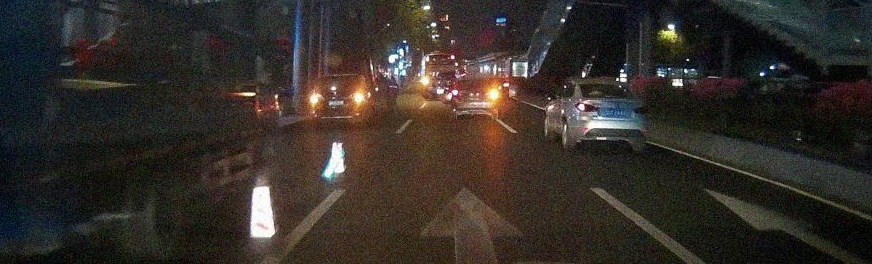L_light: (575, 103, 597, 112), (310, 94, 318, 104), (452, 89, 460, 98)
R_light: (633, 106, 648, 115), (354, 92, 364, 102), (489, 89, 498, 99)
T_light: (595, 83, 608, 87), (333, 75, 342, 78), (469, 80, 478, 83)
night-left: (575, 78, 649, 152)
night-no: (310, 73, 364, 129)
night-right: (451, 78, 498, 119)
